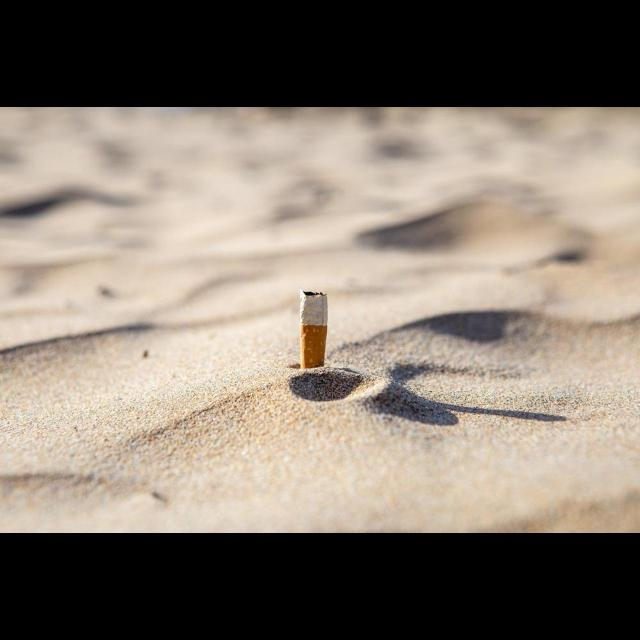cigarette: (300, 290, 328, 369)
